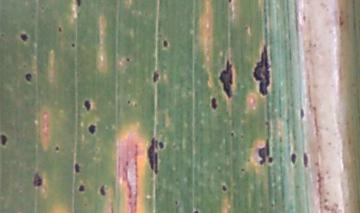tarspot: (249, 43, 275, 100), (140, 131, 167, 179), (218, 56, 247, 99), (253, 135, 278, 170), (29, 168, 47, 193), (82, 120, 102, 138), (14, 29, 35, 45), (300, 148, 313, 171), (80, 95, 94, 116), (284, 151, 301, 168), (96, 182, 110, 202), (147, 67, 161, 84), (20, 70, 36, 84), (74, 181, 89, 195), (207, 95, 221, 110), (1, 131, 12, 149), (71, 160, 83, 175), (296, 106, 308, 121), (52, 22, 66, 34), (67, 38, 79, 51), (159, 37, 170, 51), (219, 181, 230, 195), (123, 52, 133, 66), (73, 1, 87, 10), (172, 197, 183, 208), (51, 143, 62, 153), (261, 118, 272, 128), (122, 97, 132, 107), (237, 164, 247, 173), (226, 129, 237, 137), (190, 207, 203, 213)
